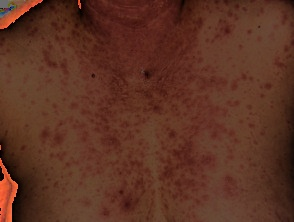SJS-TEN: (38, 0, 294, 218)
